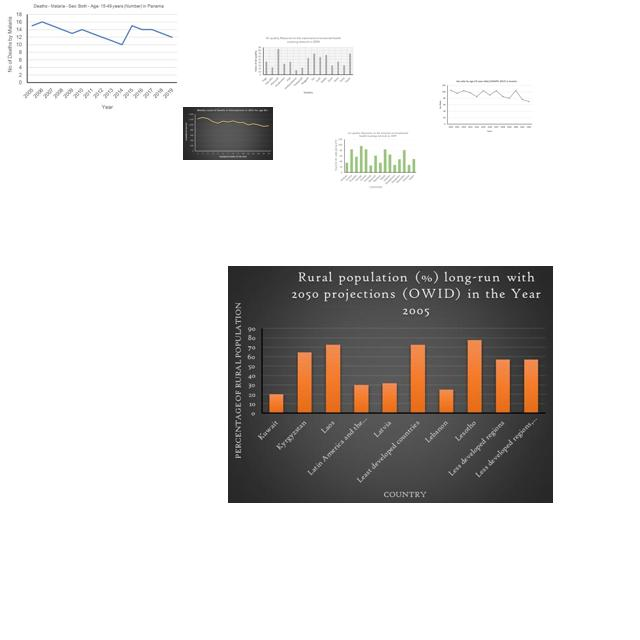Graph: (228, 266, 553, 503), (4, 1, 180, 111), (252, 35, 356, 95), (437, 77, 533, 134), (333, 130, 418, 190), (183, 107, 273, 160)
